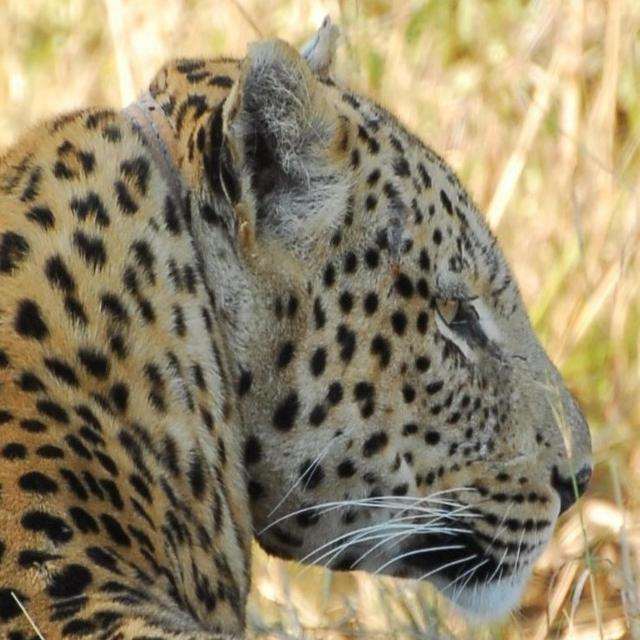Leopard: (13, 2, 587, 640)
